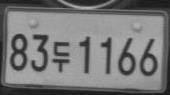1: (97, 36, 116, 74), (76, 36, 95, 73)
3: (30, 33, 49, 72)
6: (138, 37, 158, 76), (117, 36, 136, 75)
8: (8, 32, 28, 71)
두: (51, 40, 70, 72)
